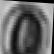correct: (0, 0, 50, 54)
